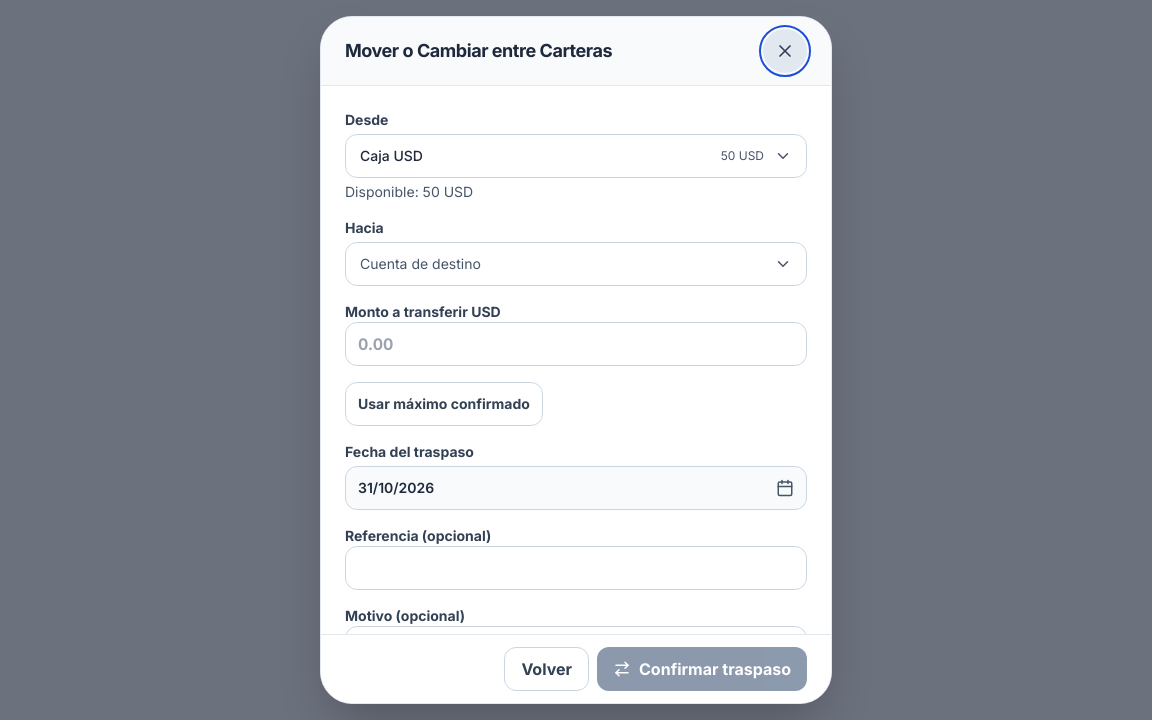
Traspasos: confirmación única, saldos y unidades › una respuesta fallida conserva el formulario y el importe
Step 1. Click the dropdown named "Hacia" → click(420, 264), box left=345, top=242, right=807, bottom=286
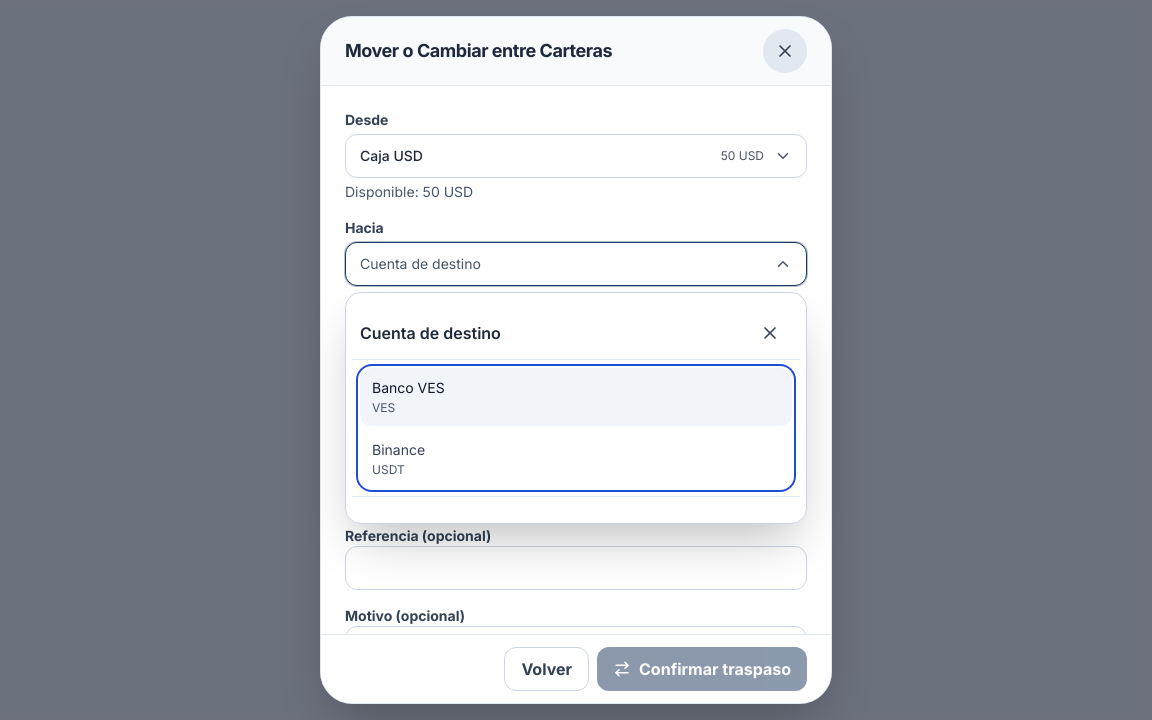
Step 2. Click the option "Banco VES VES" → click(408, 388), box left=360, top=368, right=792, bottom=426
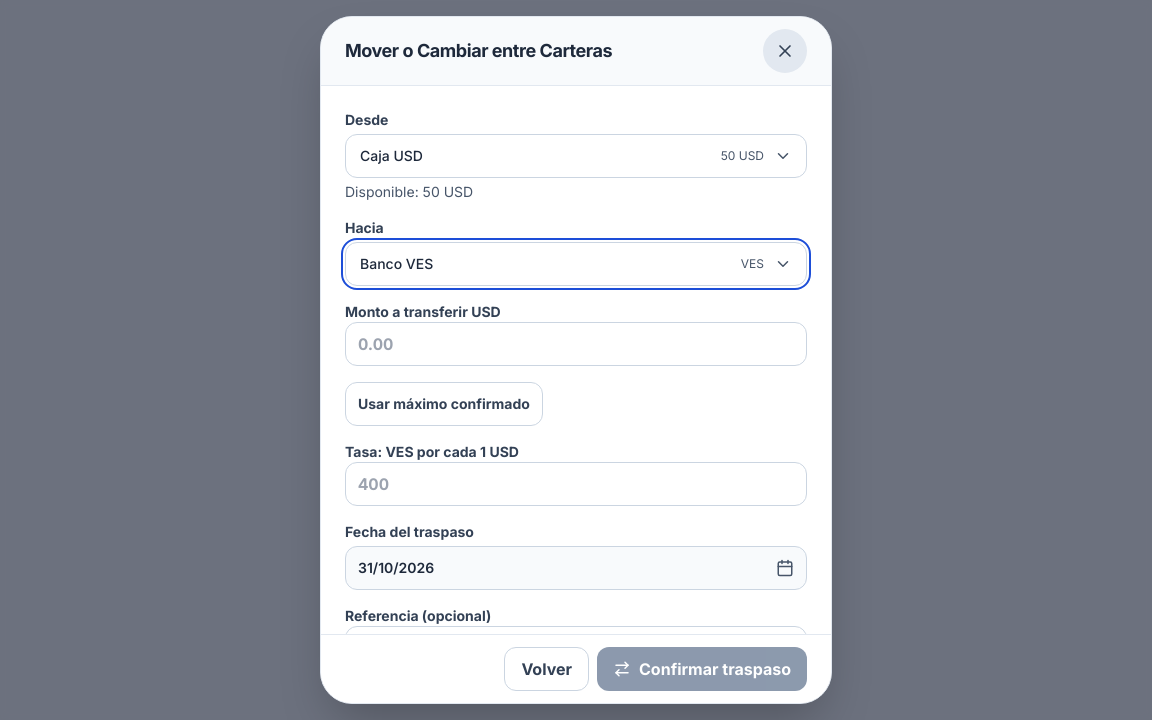
Step 3. Type "10" into the field with placeholder "0.00" → (576, 344), box left=345, top=322, right=807, bottom=366
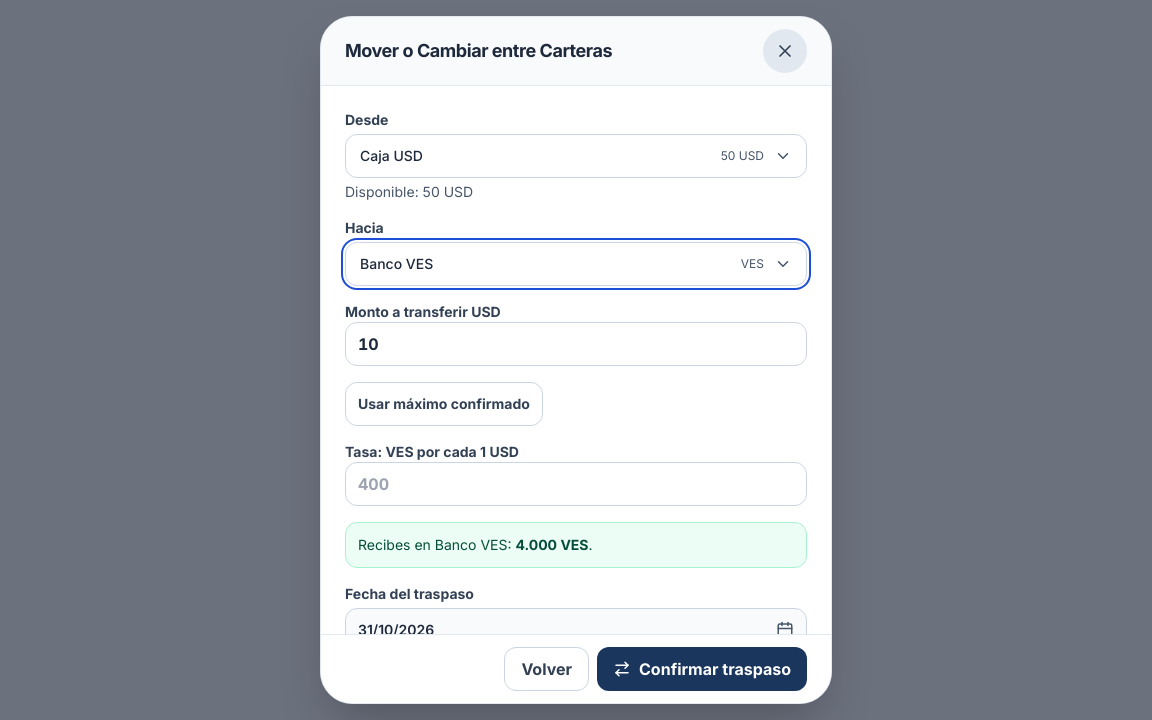
Step 4. Click the button "Confirmar traspaso" → click(702, 669), box left=597, top=647, right=807, bottom=691
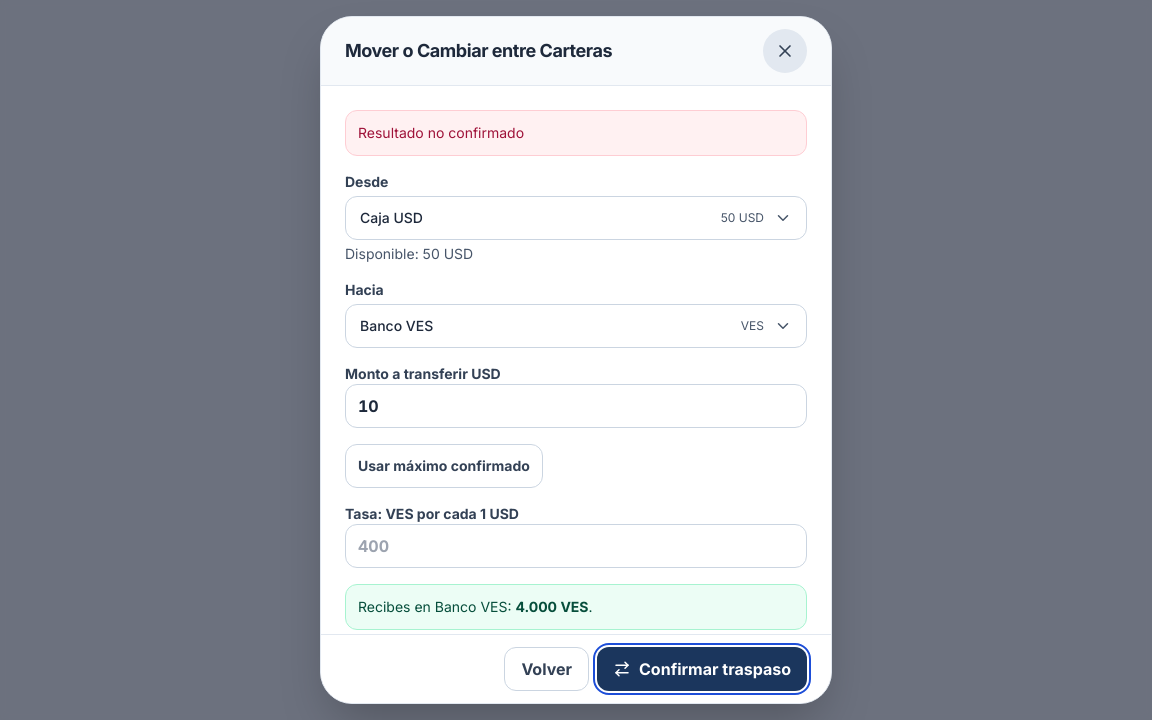
Expected: the message reads "Resultado no confirmado", left=358, top=124, right=524, bottom=141
